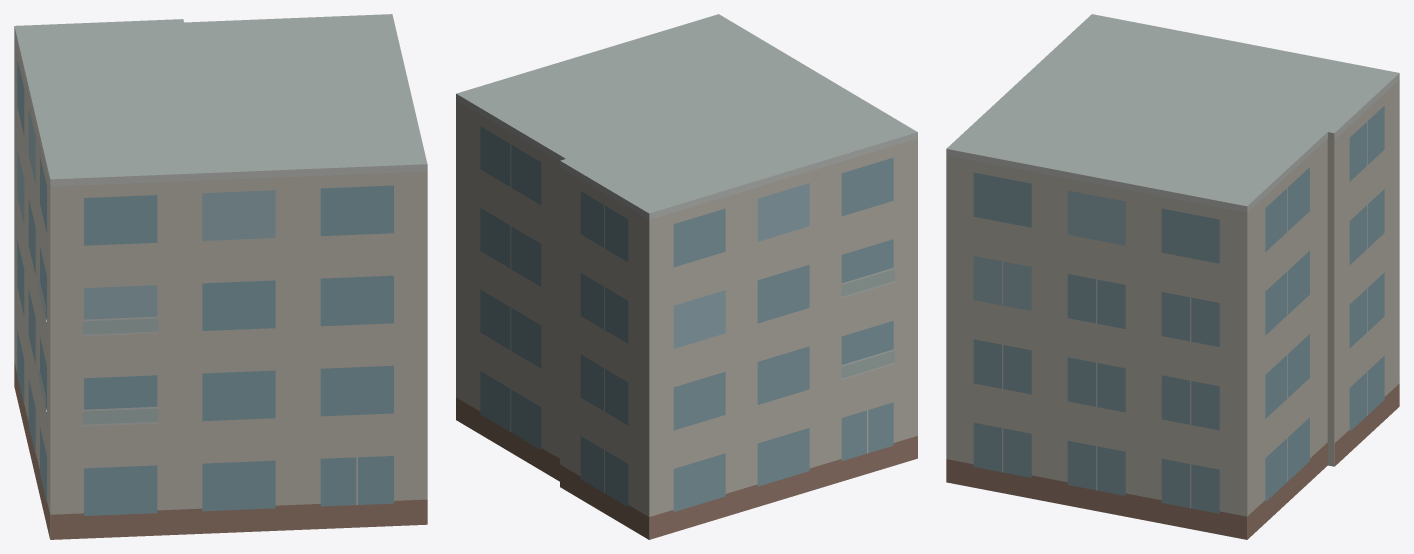
The model's file is survey-upis-32656837.glb.
3 renders of one model, left to right at view 1: azimuth 30°, elevation 25°; view 2: azimuth 150°, elevation 25°; view 3: azimuth 270°, elevation 25°, orthographic. The views are drawn at different scales.
Visible parts, largest first — view 1: survey-upis-32656837.tmp; view 2: survey-upis-32656837.tmp; view 3: survey-upis-32656837.tmp.
Boxes of the visible parts, x1,y1,x2,y2 form: survey-upis-32656837.tmp: (14,14,427,539); survey-upis-32656837.tmp: (456,14,917,539); survey-upis-32656837.tmp: (946,14,1399,539).
Size of the model in its own units: 15.35 by 12.4 by 15.29.
